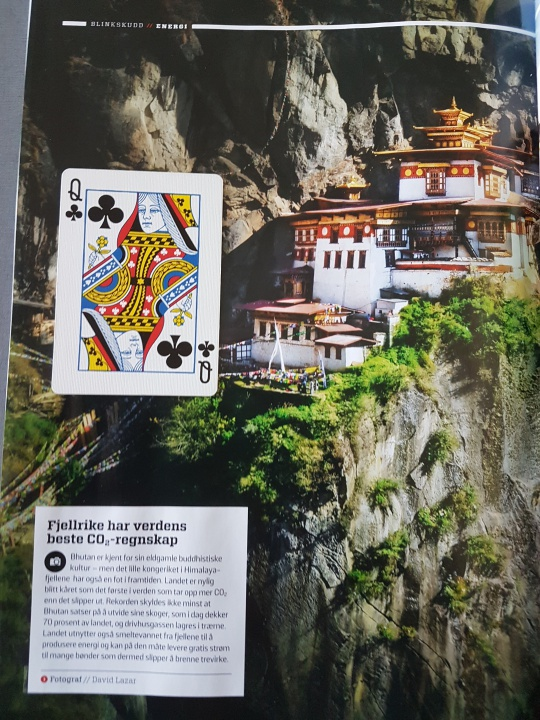queen: (53, 157, 220, 406)
